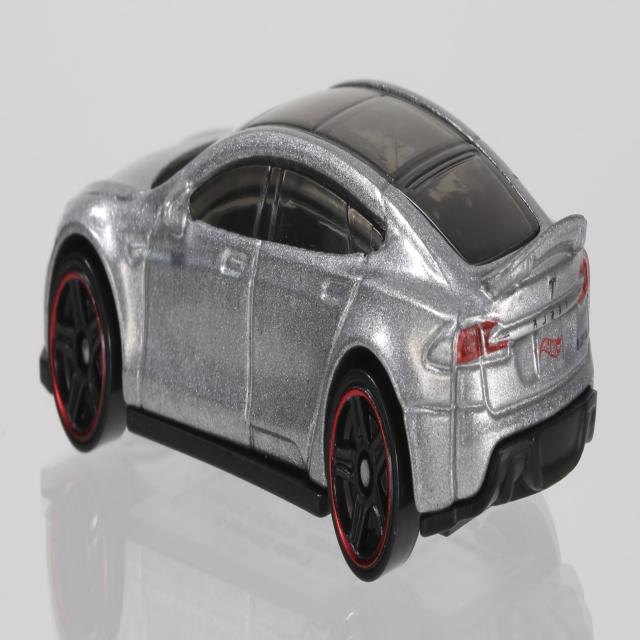Car: (39, 77, 598, 584)
